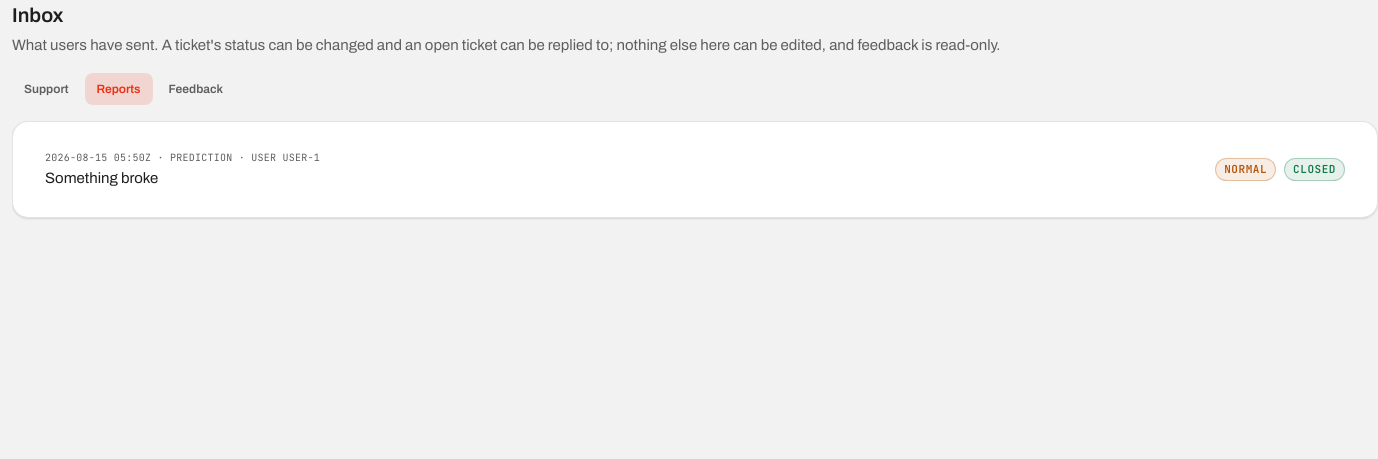
Test: AdminInboxPanel — reply › closed tickets offer no composer at all › hides the composer on a closed Report too
What coordinates should you click on to do the following:
click the button "Something broke"
I would click on:
 (98, 157)
Its box is [29,138,1361,201].
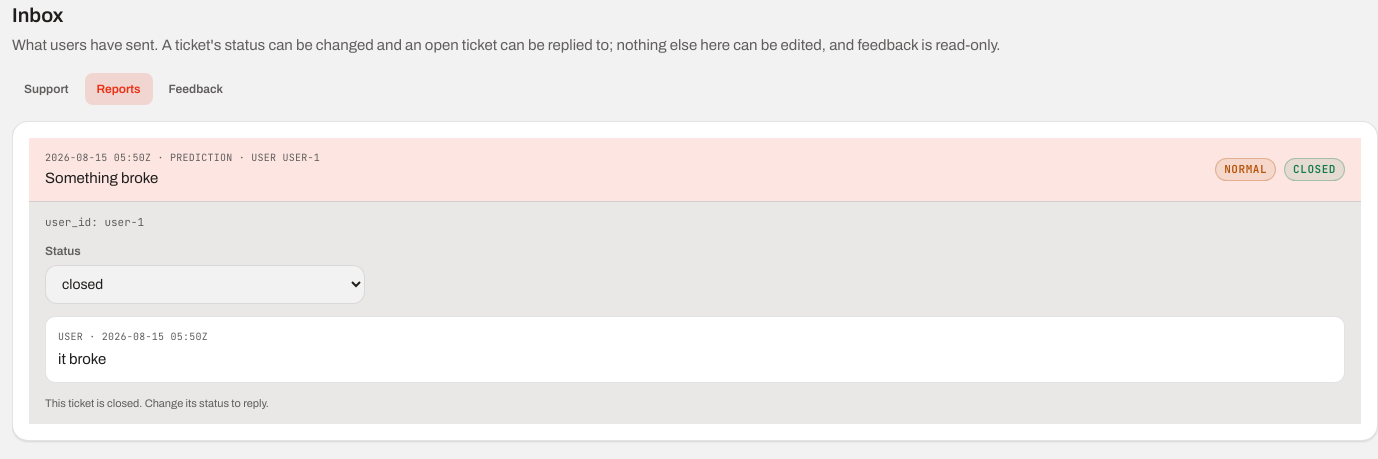
Expected: the text "it broke" is shown, [58,350,106,366]
